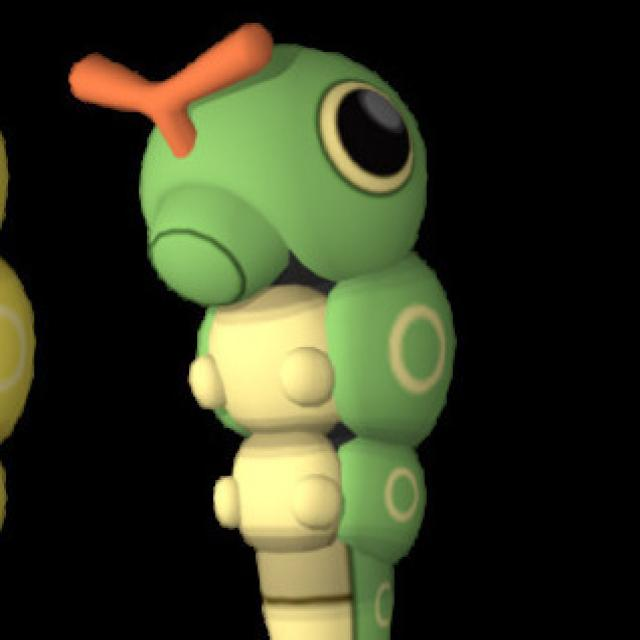Caterpie: (68, 25, 460, 640)
